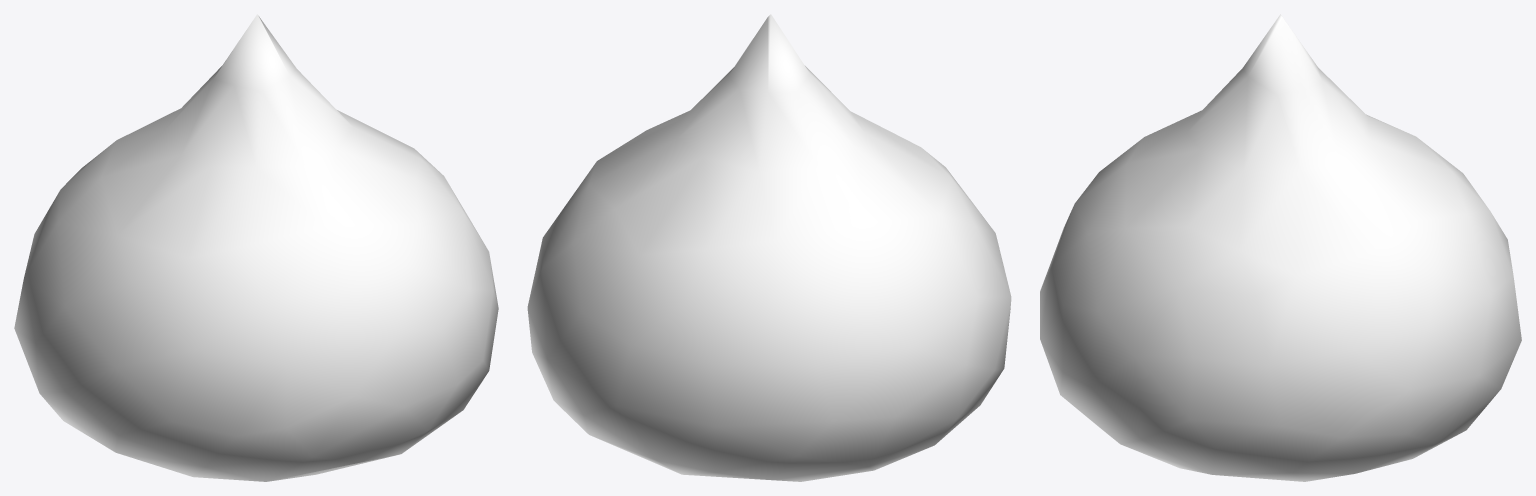
File: slime.obj
3 renders of one model, left to right at view 1: azimuth 30°, elevation 25°; view 2: azimuth 150°, elevation 25°; view 3: azimuth 270°, elevation 25°, orthographic.
Visible parts, largest first — view 1: 球; view 2: 球; view 3: 球.
Boxes of the visible parts, x1,y1,x2,y2 form: 球: (14, 14, 498, 481); 球: (527, 14, 1011, 481); 球: (1040, 14, 1521, 481).
Size of the model in its own units: 1.84 by 1.72 by 1.84.
